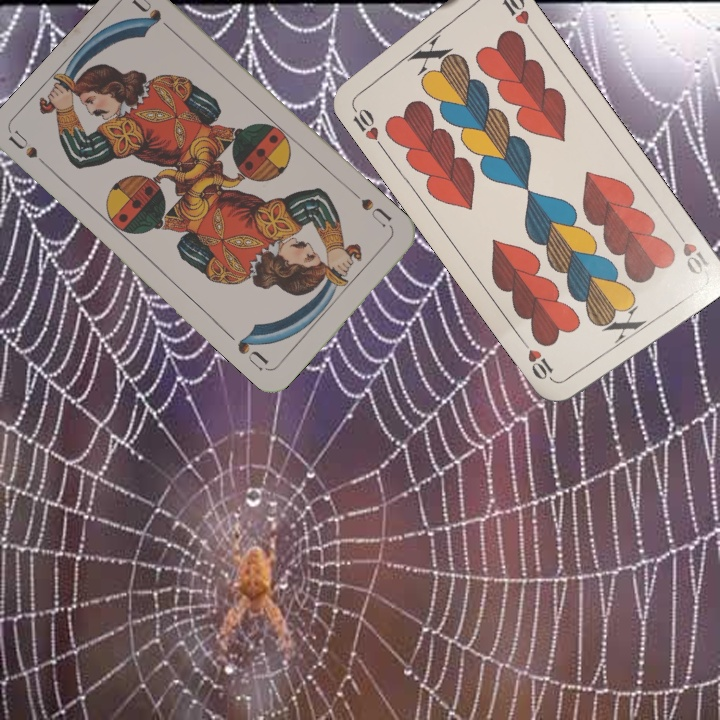H10: (669, 224, 713, 278), (347, 98, 386, 151)
SU: (5, 127, 56, 175), (349, 188, 397, 233)
